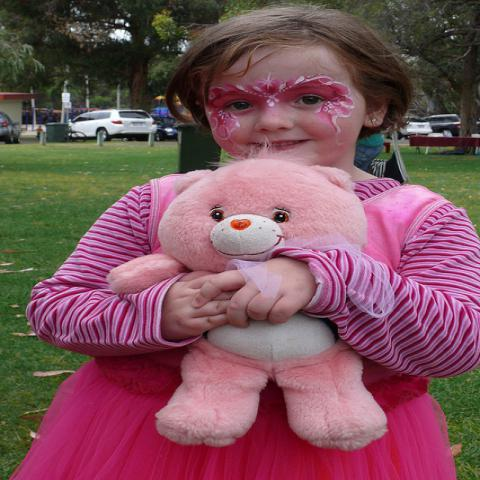car: (72, 110, 157, 142), (115, 120, 176, 142), (398, 116, 431, 139), (429, 115, 460, 137), (0, 112, 21, 144)
